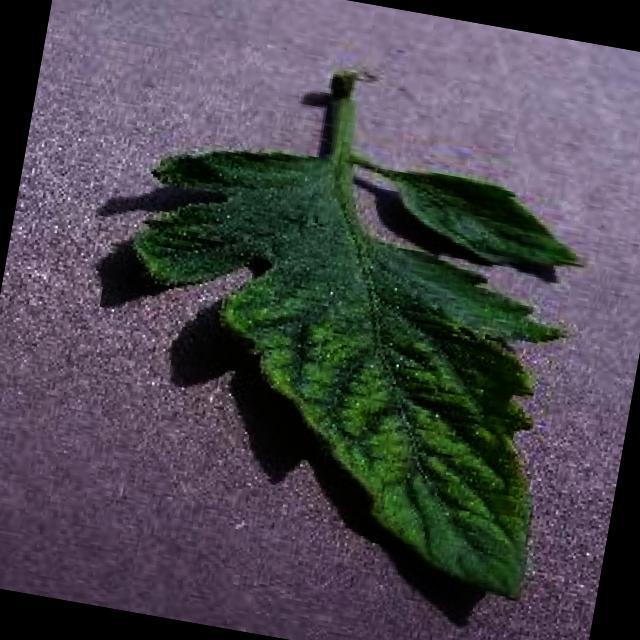Tomato mosaic virus leaf: (73, 116, 600, 608)
